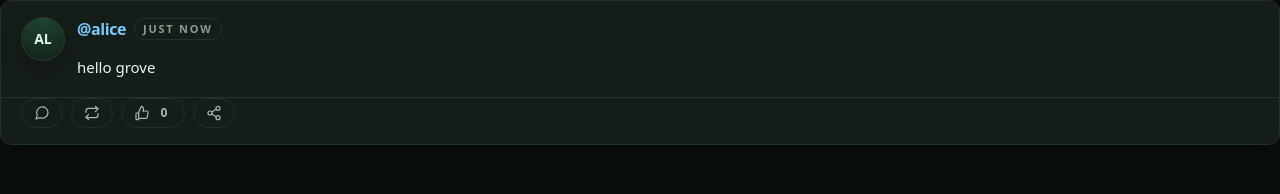
Test: TweetCard › rolls back optimistic like and shows error on failure
Click the button named "like" at {"x": 153, "y": 113}, box [121,98,185,128]
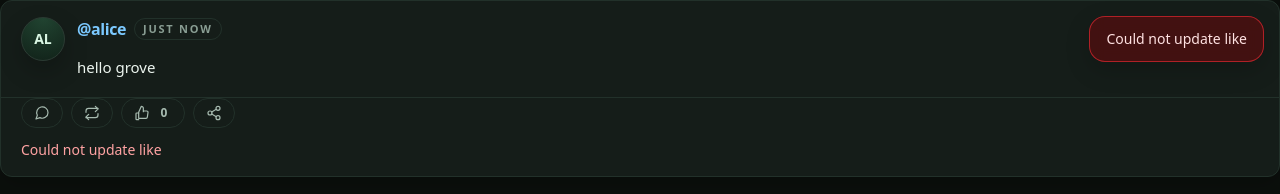
expect the text "0" is shown: met, box [161,104,168,121]
expect the message reads "Could not update like": met, box [21,140,162,159]
